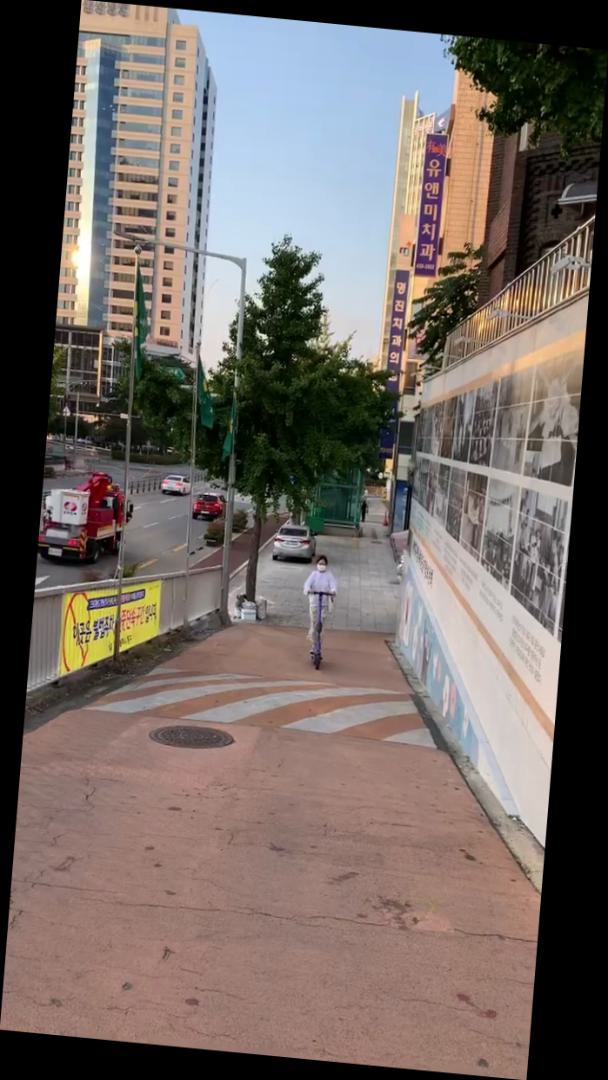nonhelmet: (295, 551, 348, 675)
